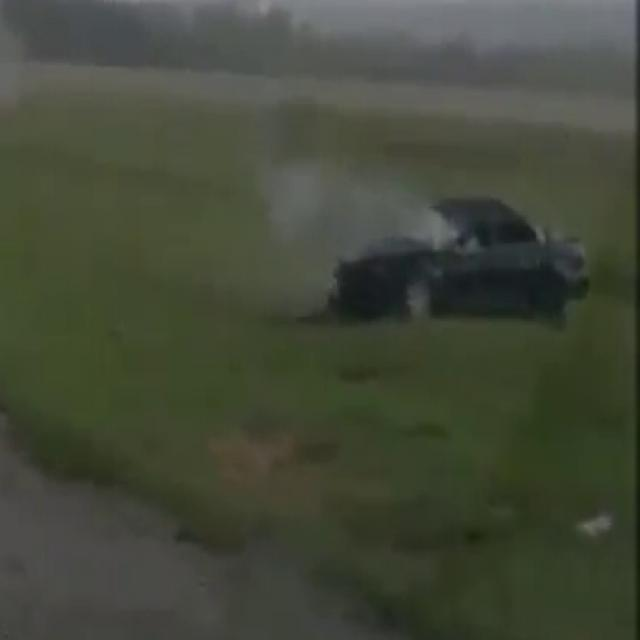accident: (300, 163, 590, 364)
